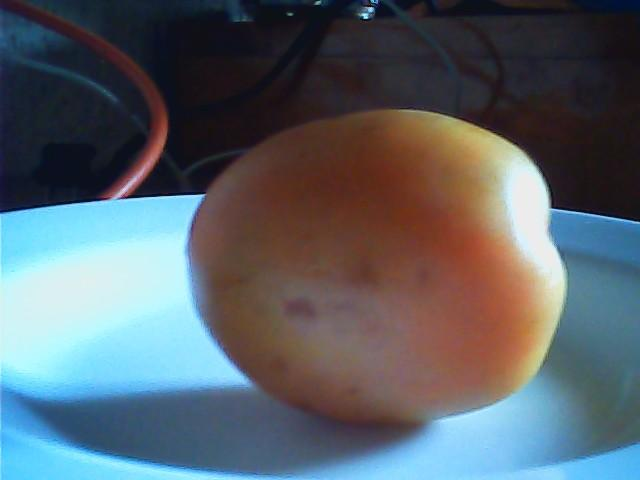verde: (183, 102, 572, 434)
